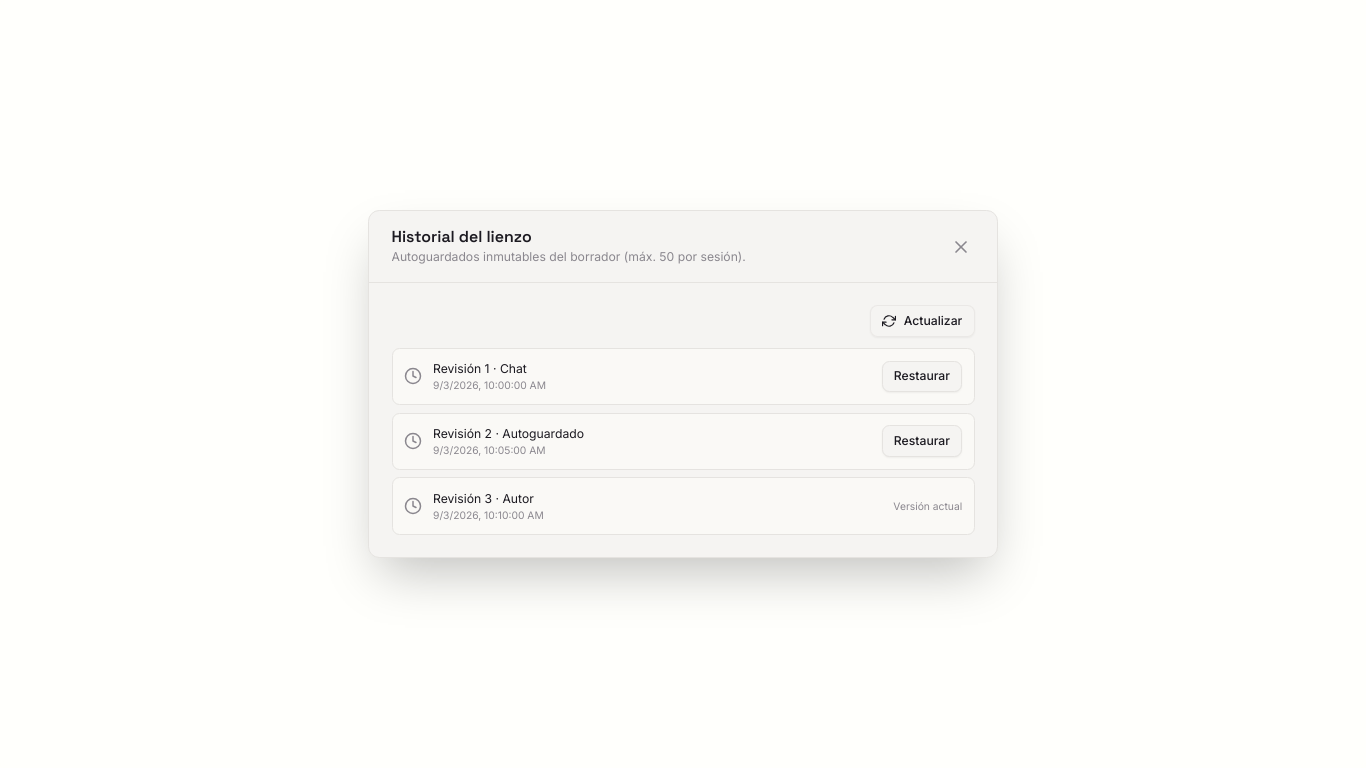
Scenario: DraftHistoryPanel › keeps the dialog open and surfaces the error when restore fails
Click the button "Restaurar" in the row of "Revisión 1 · Chat" at (922, 376), box [882,361,962,392]
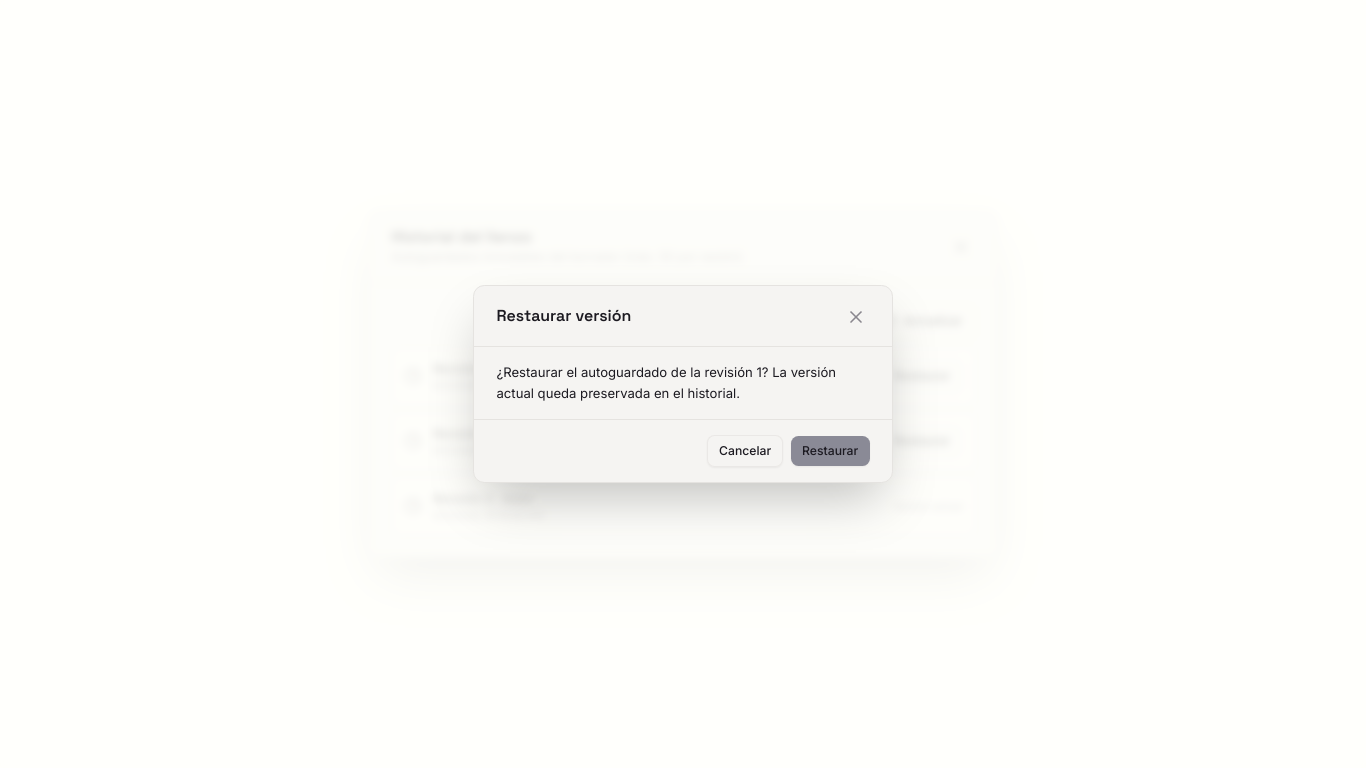
Click the button "Restaurar" at (830, 451), box [791,436,870,466]
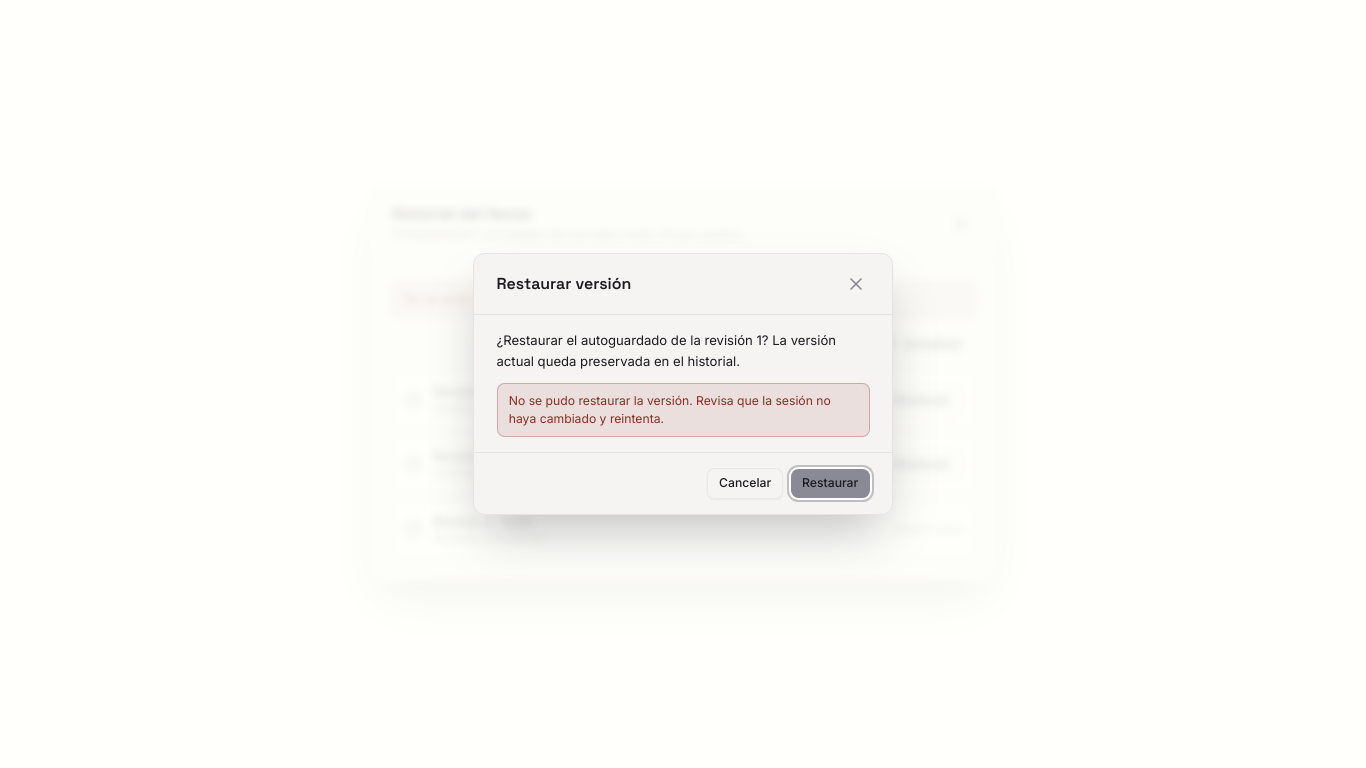
expect the message below "Historial del lienzo" is shown: met, box [392,282,974,317]
